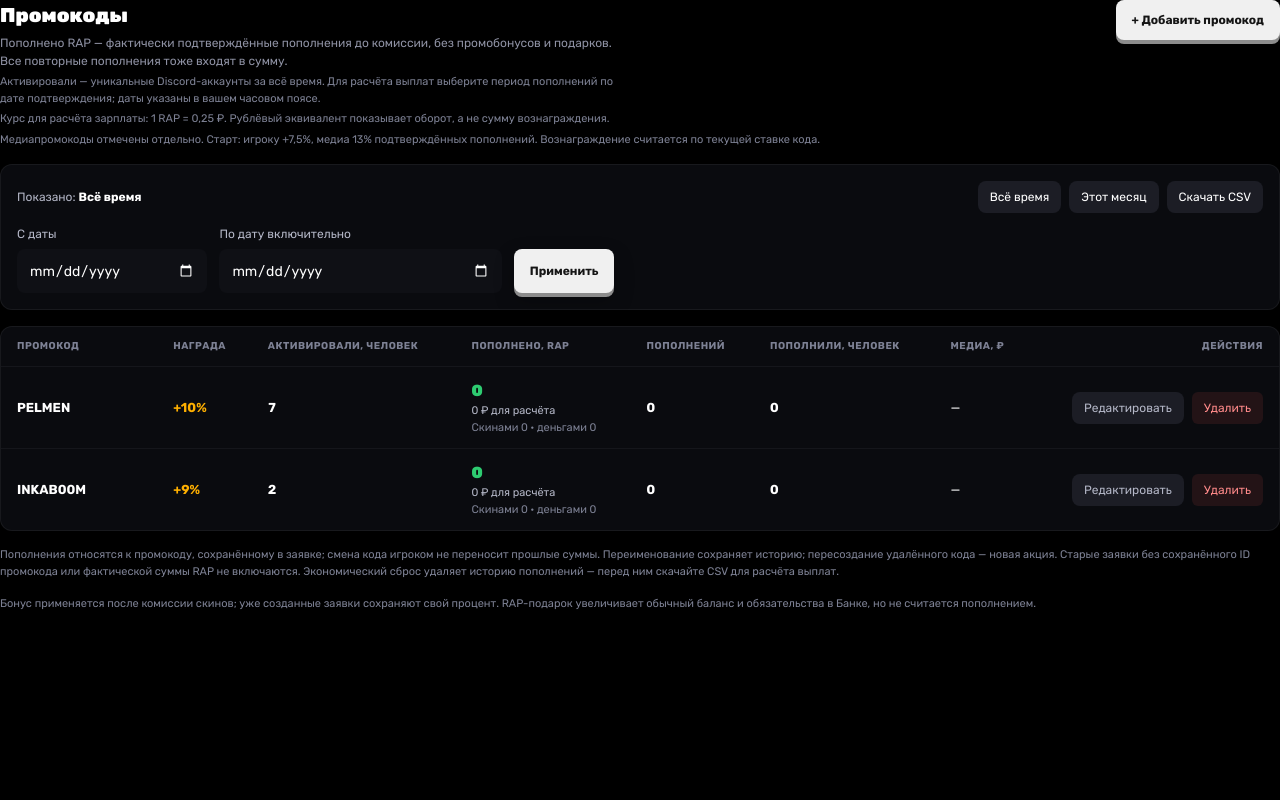
deletion requires its dialog action and failed requests can be retried
Later steps or results of the test are not shown.
Click the button with aria-label "Удалить PELMEN": (1227, 408) [1192,392,1263,424]
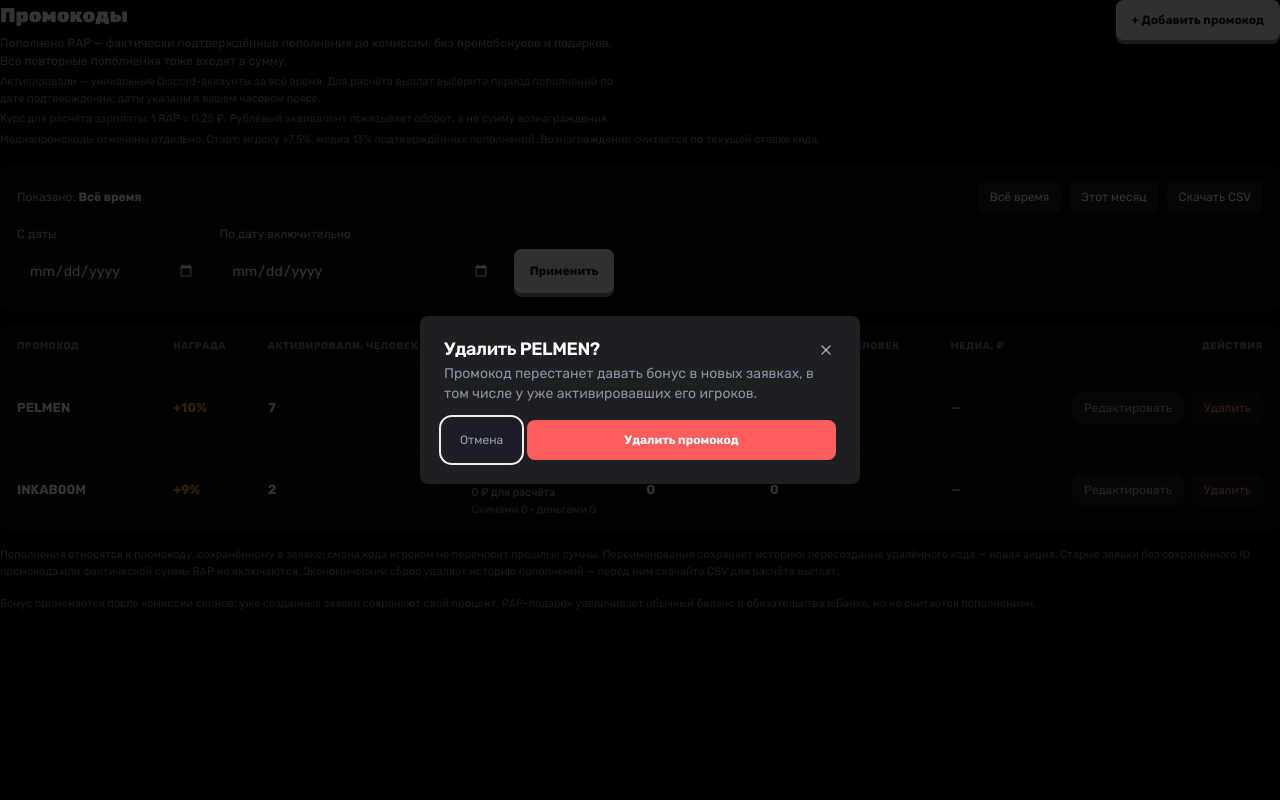
Click the button "Удалить промокод": (682, 440) [527,420,836,460]
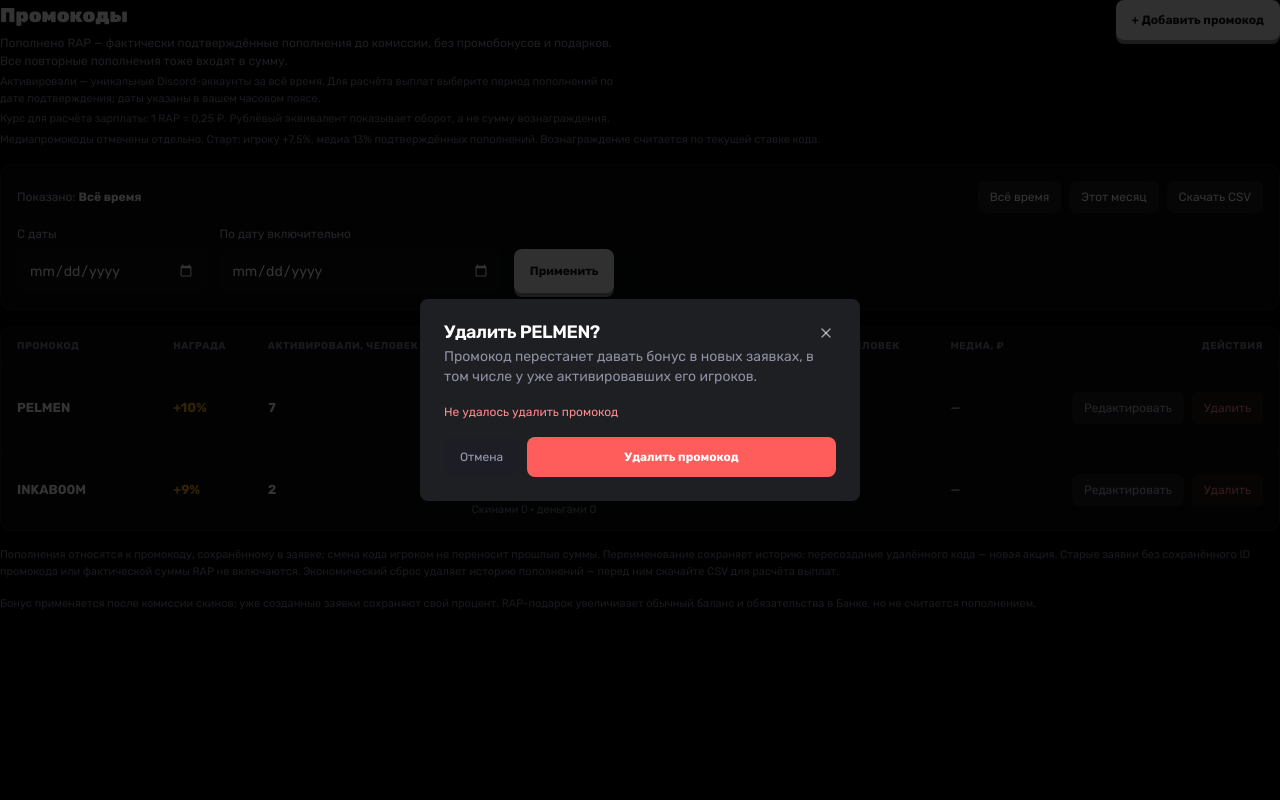
Expected: the message "Не удалось удалить промокод" is shown, [444,405,618,419]
